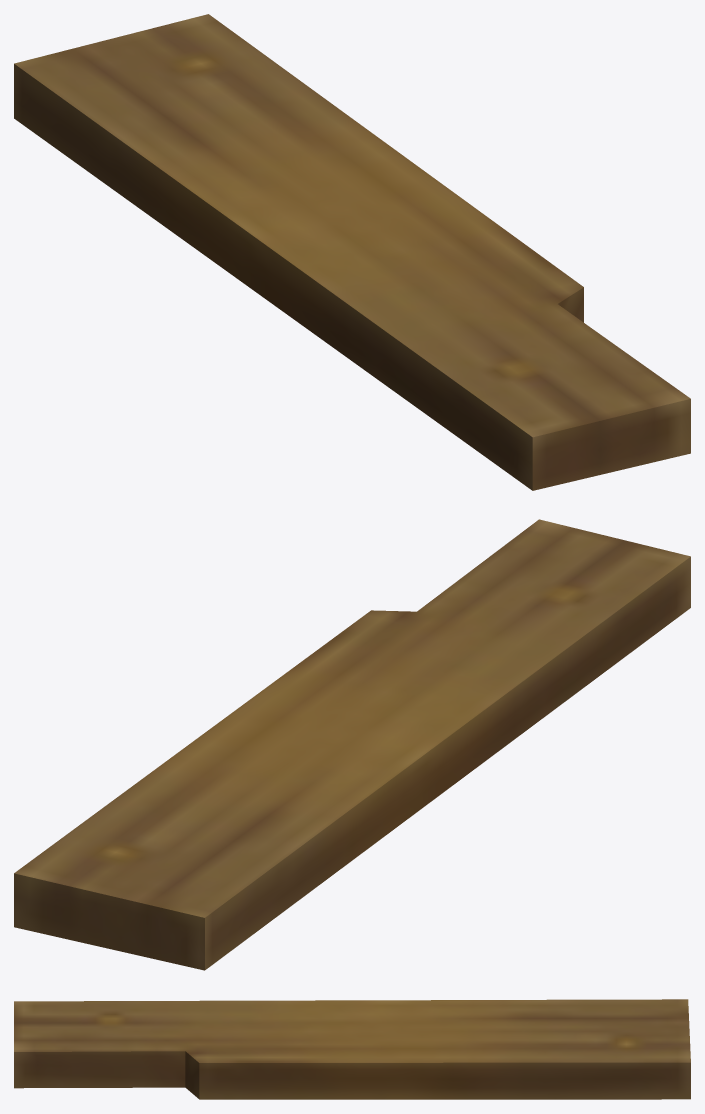
File: Stage_ZhuCheng_MuBan03.FBX
3 renders of one model, top to bottom at view 1: azimuth 30°, elevation 25°; view 2: azimuth 150°, elevation 25°; view 3: azimuth 270°, elevation 25°, orthographic. The views are drawn at different scales.
Visible parts, largest first — view 1: Stage_ZhuCheng_MuBan03; view 2: Stage_ZhuCheng_MuBan03; view 3: Stage_ZhuCheng_MuBan03.
Part boxes in pixels (x1,y1,x2,y2): Stage_ZhuCheng_MuBan03: (14, 14, 690, 490); Stage_ZhuCheng_MuBan03: (14, 519, 690, 970); Stage_ZhuCheng_MuBan03: (14, 999, 690, 1099).
Bounding box in the file's own units: 33.14 × 8.96 × 149.
